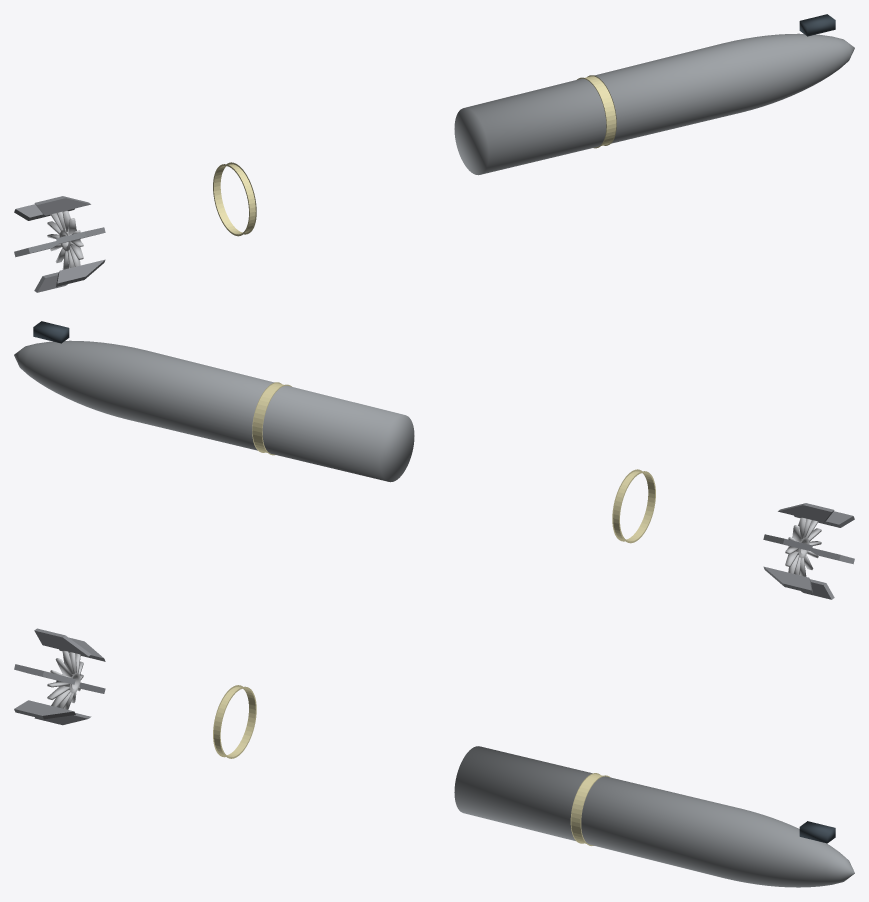
File: RU_TORP_SET53_LOD0.fbx
The picture shows the model from 3 angles, top to bottom: view 1: azimuth 30°, elevation 25°; view 2: azimuth 150°, elevation 25°; view 3: azimuth 330°, elevation 25°; orthographic projection.
Parts seen in each view (by area): view 1: WPN_RU_TORP_SET53_LOD0_Body, WPN_RU_TORP_SET53_LOD0_Fins, WPN_RU_TORP_SET53_LOD0_Marking, WPN_RU_TORP_SET53_LOD0_Propulsor, WPN_RU_TORP_SET53_LOD0_Seeker; view 2: WPN_RU_TORP_SET53_LOD0_Body, WPN_RU_TORP_SET53_LOD0_Fins, WPN_RU_TORP_SET53_LOD0_Marking, WPN_RU_TORP_SET53_LOD0_Propulsor, WPN_RU_TORP_SET53_LOD0_Seeker; view 3: WPN_RU_TORP_SET53_LOD0_Body, WPN_RU_TORP_SET53_LOD0_Fins, WPN_RU_TORP_SET53_LOD0_Marking, WPN_RU_TORP_SET53_LOD0_Propulsor, WPN_RU_TORP_SET53_LOD0_Seeker.
Boxes of the visible parts, x1=… form: WPN_RU_TORP_SET53_LOD0_Body: x1=454, y1=33, x2=854, y2=175; WPN_RU_TORP_SET53_LOD0_Fins: x1=14, y1=196, x2=105, y2=292; WPN_RU_TORP_SET53_LOD0_Marking: x1=213, y1=75, x2=616, y2=236; WPN_RU_TORP_SET53_LOD0_Propulsor: x1=47, y1=210, x2=83, y2=269; WPN_RU_TORP_SET53_LOD0_Seeker: x1=799, y1=14, x2=835, y2=36; WPN_RU_TORP_SET53_LOD0_Body: x1=14, y1=340, x2=414, y2=482; WPN_RU_TORP_SET53_LOD0_Fins: x1=763, y1=503, x2=854, y2=599; WPN_RU_TORP_SET53_LOD0_Marking: x1=252, y1=382, x2=655, y2=543; WPN_RU_TORP_SET53_LOD0_Propulsor: x1=785, y1=517, x2=821, y2=576; WPN_RU_TORP_SET53_LOD0_Seeker: x1=33, y1=321, x2=69, y2=343; WPN_RU_TORP_SET53_LOD0_Body: x1=454, y1=746, x2=854, y2=887; WPN_RU_TORP_SET53_LOD0_Fins: x1=14, y1=628, x2=105, y2=725; WPN_RU_TORP_SET53_LOD0_Marking: x1=213, y1=685, x2=609, y2=845; WPN_RU_TORP_SET53_LOD0_Propulsor: x1=47, y1=650, x2=83, y2=709; WPN_RU_TORP_SET53_LOD0_Seeker: x1=799, y1=821, x2=835, y2=843.
Size of the model in its own units: 7.03 by 0.6447 by 0.7199.
